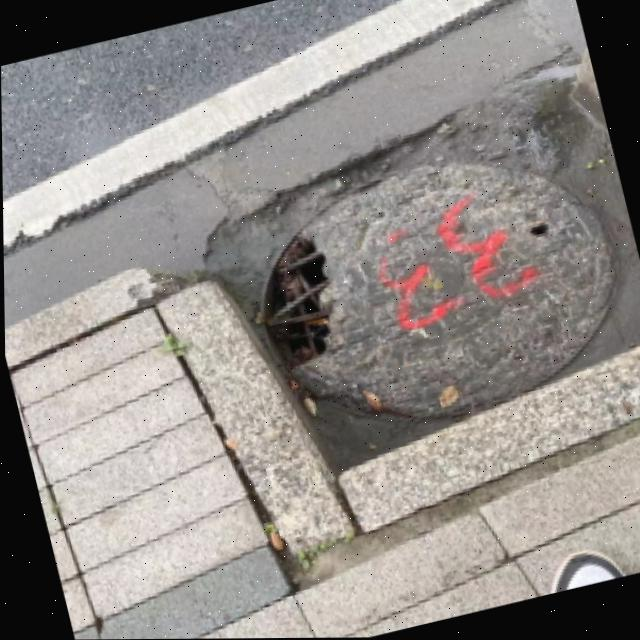manhole: (177, 72, 640, 479)
